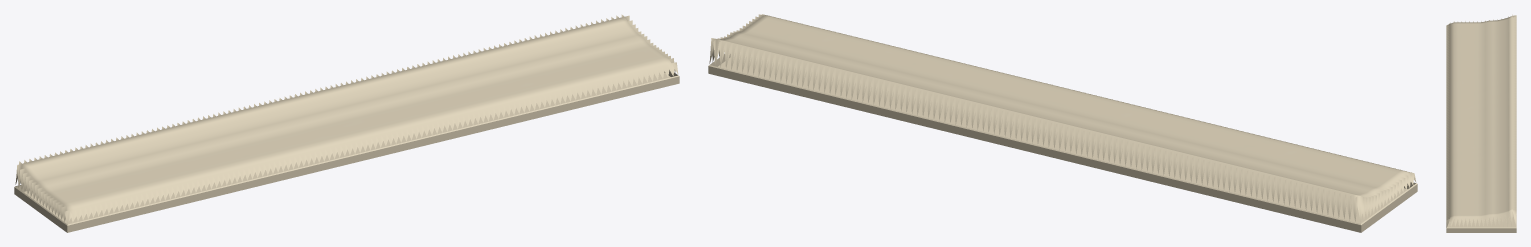
File: mahsulot.glb
3 renders of one model, left to right at view 1: azimuth 30°, elevation 25°; view 2: azimuth 150°, elevation 25°; view 3: azimuth 270°, elevation 25°, orthographic. The views are drawn at different scales.
Visible parts, largest first — view 1: mahsulot; view 2: mahsulot; view 3: mahsulot.
Part boxes in pixels (x1,y1,x2,y2): mahsulot: (14, 14, 679, 232); mahsulot: (708, 14, 1417, 232); mahsulot: (1446, 14, 1516, 232).
Size of the model in its own units: 1.2 by 0.06 by 0.18.
